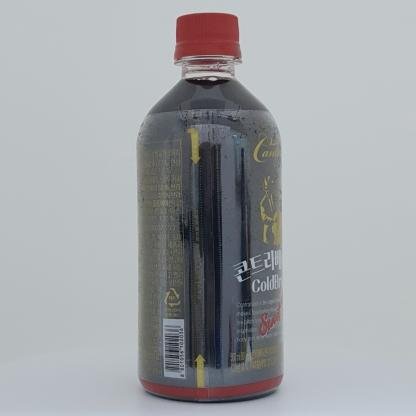-------------------500ML: (137, 12, 283, 404)
